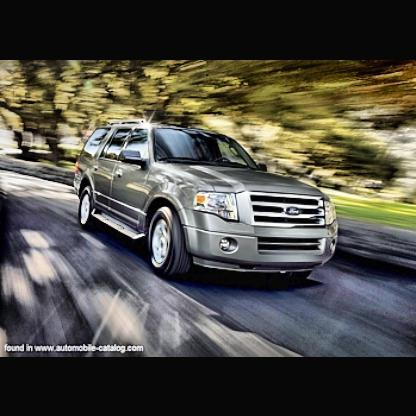Ford Expedition EL SUV 2009: (70, 120, 345, 283)
